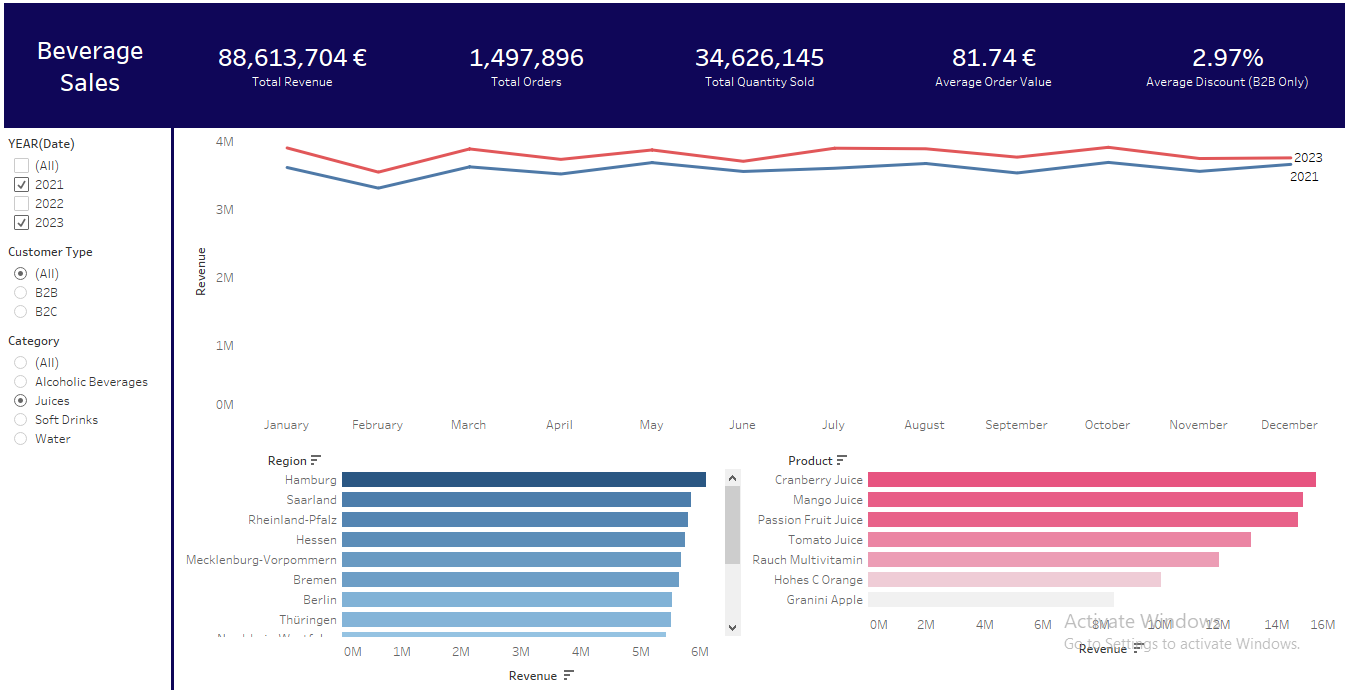

This screenshot's page, from the dashboard's own definition file:
{"tool":"tableau","page":{"name":"Beverage Sales Dashboard","canvas":[1340,690],"ordinal":0},"visuals":[{"type":"text","box":[0,0,172,125]},{"type":"worksheet","title":"KPIs","mark":"Automatic","box":[172,0,1169,125]},{"type":"blank","box":[167,125,3,562]},{"type":"filter","title":"Revenue Trend","param":"[federated.06mvi1x01kl4mr17hqidf1jakvwy].[yr:Order_Date:ok]","box":[0,128,171.9,108]},{"type":"worksheet","title":"Revenue Trend","mark":"Automatic","rows":["Calculation_722827799139229696"],"cols":["Order_Date"],"box":[181,129,1151,302]},{"type":"filter","title":"Revenue Trend","param":"[federated.06mvi1x01kl4mr17hqidf1jakvwy].[none:Customer_Type:nk]","box":[0,236,171.9,89]},{"type":"filter","title":"Revenue Trend","param":"[federated.06mvi1x01kl4mr17hqidf1jakvwy].[none:Category:nk]","box":[0,325,171.9,127]},{"type":"worksheet","title":"Sales by Region","mark":"Automatic","rows":["Region"],"cols":["Calculation_722827799139229696"],"box":[178,446,559,242]},{"type":"worksheet","title":"Sales by Product","mark":"Automatic","rows":["Product"],"cols":["Calculation_722827799139229696"],"box":[744,446,590,242]}]}

Visuals, with their boxes in screenshot pixels (x1, y1, x2, y2), scaled from the page's 1340x690 canvas onto the 1349x693 screenshot:
text: locate(0, 0, 173, 126)
"KPIs" worksheet: locate(173, 0, 1348, 126)
blank: locate(168, 126, 171, 690)
"Revenue Trend" filter: locate(0, 129, 173, 237)
"Revenue Trend" worksheet: locate(182, 130, 1341, 433)
"Revenue Trend" filter: locate(0, 237, 173, 326)
"Revenue Trend" filter: locate(0, 326, 173, 454)
"Sales by Region" worksheet: locate(179, 448, 742, 691)
"Sales by Product" worksheet: locate(749, 448, 1343, 691)
